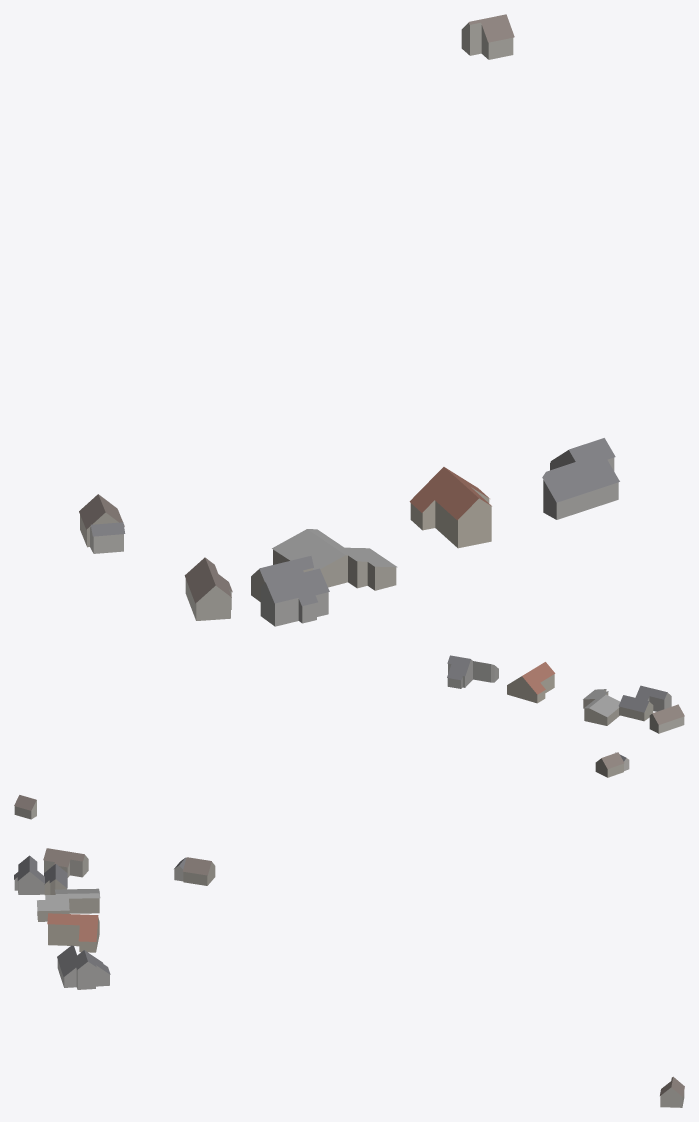
The picture shows the model from 3 angles, top to bottom: view 1: azimuth 30°, elevation 25°; view 2: azimuth 150°, elevation 25°; view 3: azimuth 270°, elevation 25°; orthographic projection. The views are drawn at different scales.
Visible parts, largest first — view 1: buildings; view 2: buildings; view 3: buildings.
Part boxes in pixels (x1,y1,x2,y2): buildings: [79, 14, 619, 626]; buildings: [14, 655, 684, 819]; buildings: [14, 848, 684, 1107].
Size of the model in its own units: 281 by 22.22 by 327.
